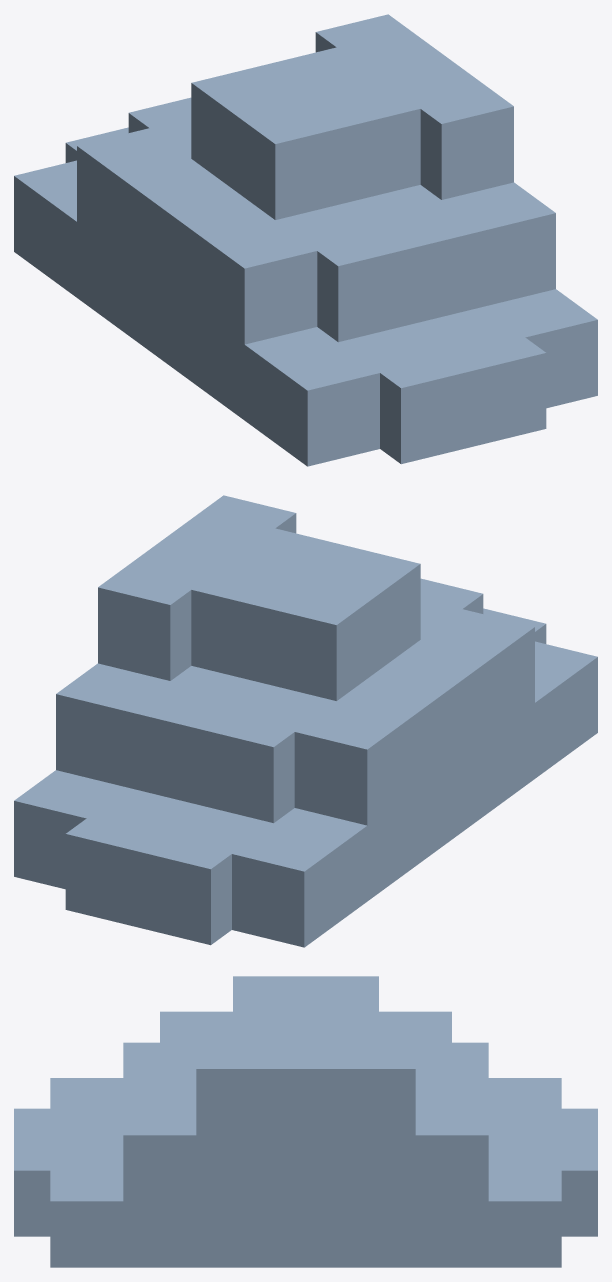
File: stone-02.glb
The picture shows the model from 3 angles, top to bottom: view 1: azimuth 30°, elevation 25°; view 2: azimuth 150°, elevation 25°; view 3: azimuth 270°, elevation 25°; orthographic projection. The views are drawn at different scales.
Visible parts, largest first — view 1: generated(Clone); view 2: generated(Clone); view 3: generated(Clone).
Part boxes in pixels (box(x1,y1,x2,y2)): generated(Clone): box(14, 14, 597, 466); generated(Clone): box(14, 495, 597, 947); generated(Clone): box(14, 976, 597, 1267).
Size of the model in its own units: 4 by 3 by 8.
1 material, 1 textured.
